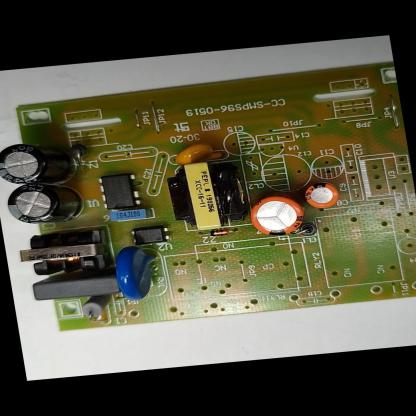Cap1: (244, 191, 311, 240)
Cap2: (300, 180, 342, 212)
Cap3: (2, 179, 86, 229)
Cap4: (0, 139, 79, 188)
MOSFET: (95, 170, 144, 212)
Mov: (111, 244, 166, 303)
Resistor: (78, 294, 117, 322)
Transformer: (161, 159, 245, 233), (11, 227, 108, 280)
